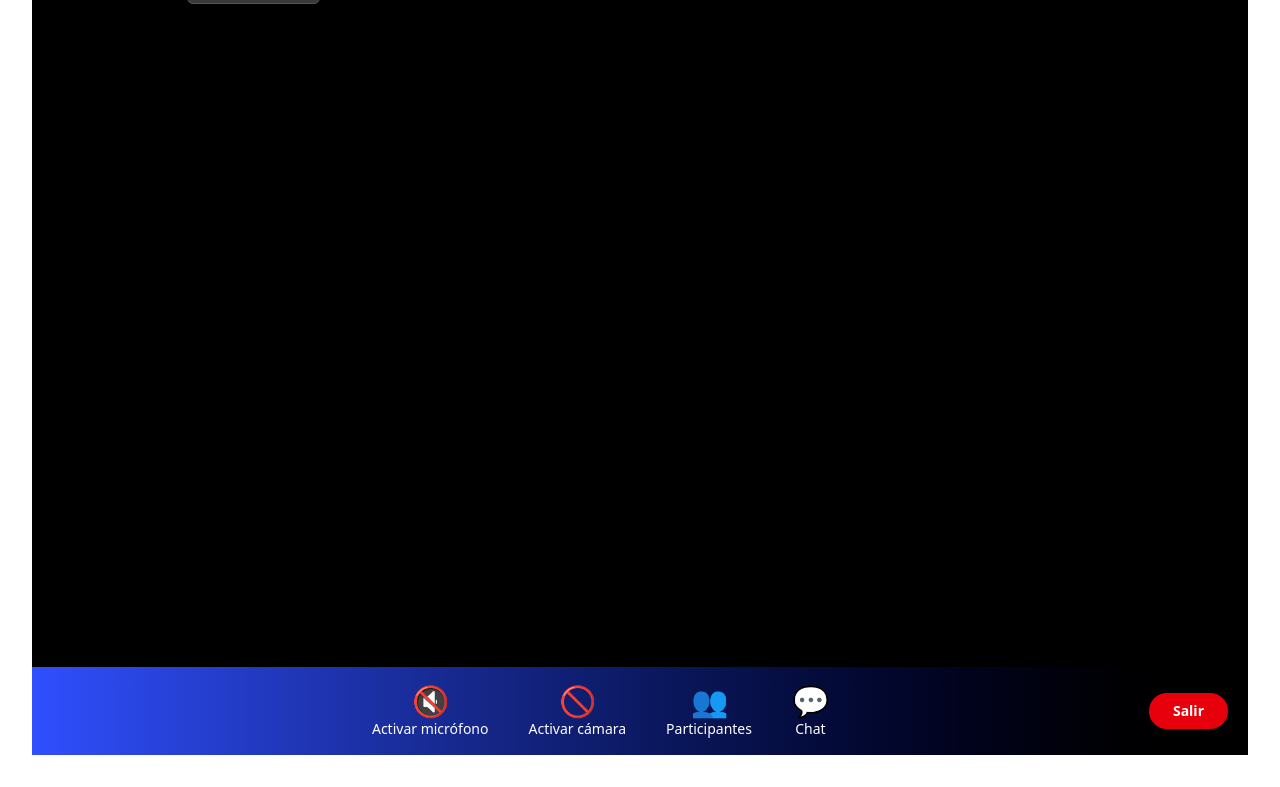
Test: Meeting Component - pruebas unitarias › Toggle de video (cámara) › debe cambiar a "Desactivar" al hacer click
This screenshot has width=1280, height=787.
(page scrolled)
Click the button titled "Activar/Desactivar de cámara" at (577, 711), box left=528, top=683, right=626, bottom=739
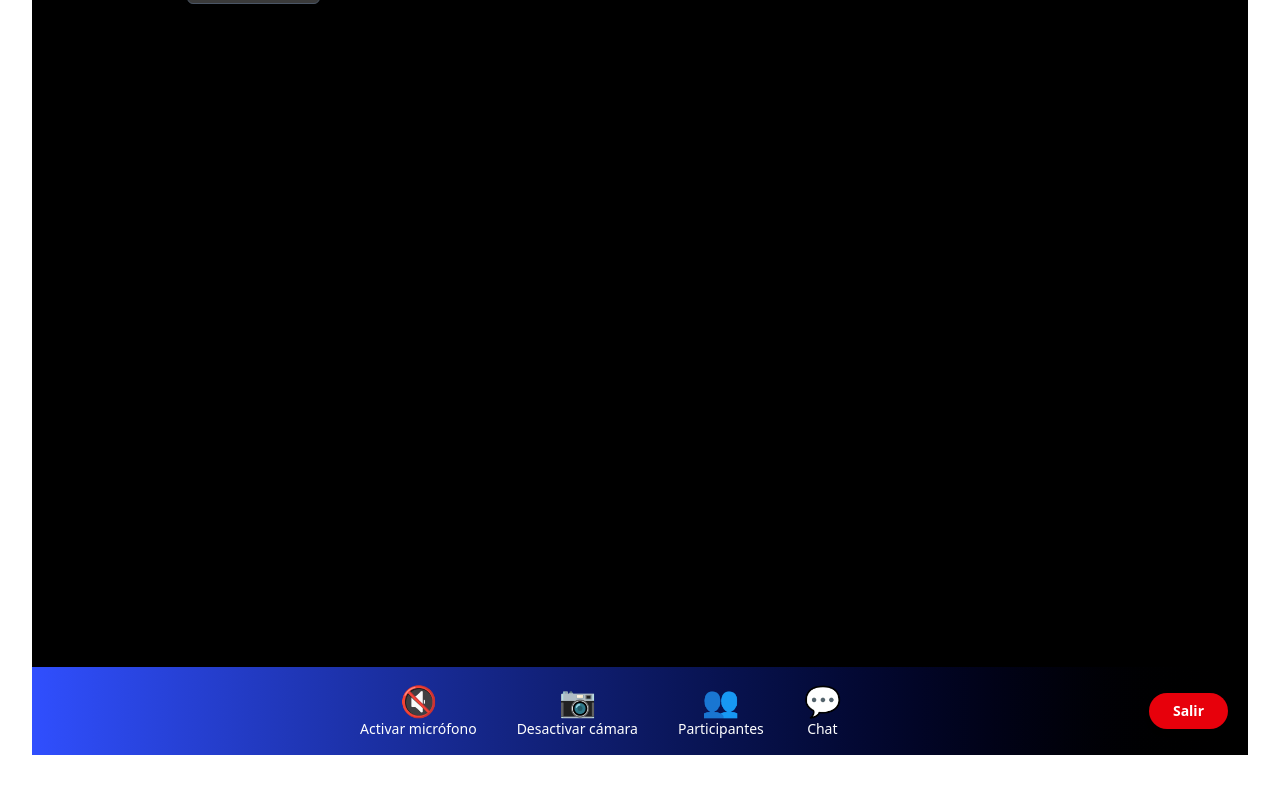
Now the text "Desactivar cámara" is shown, box left=517, top=719, right=638, bottom=739
Now the text "📷" is shown, box left=559, top=683, right=596, bottom=719
